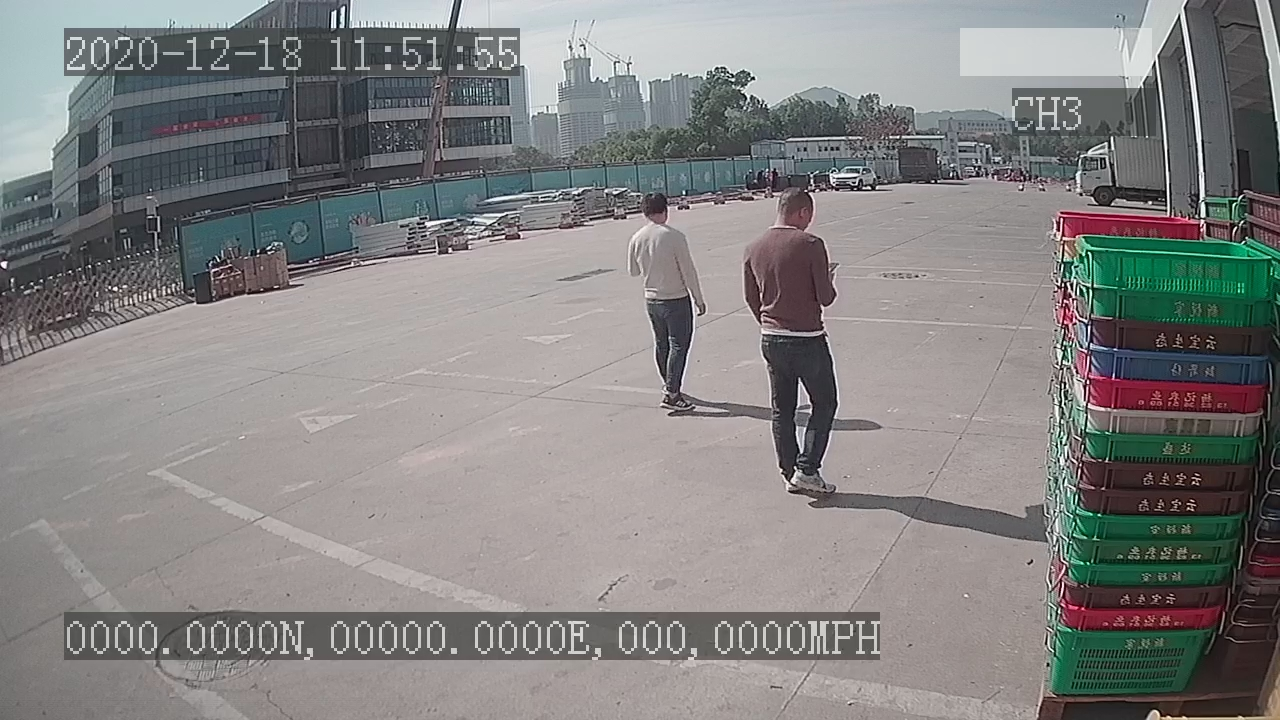person: (734, 177, 847, 506), (620, 186, 715, 422)
